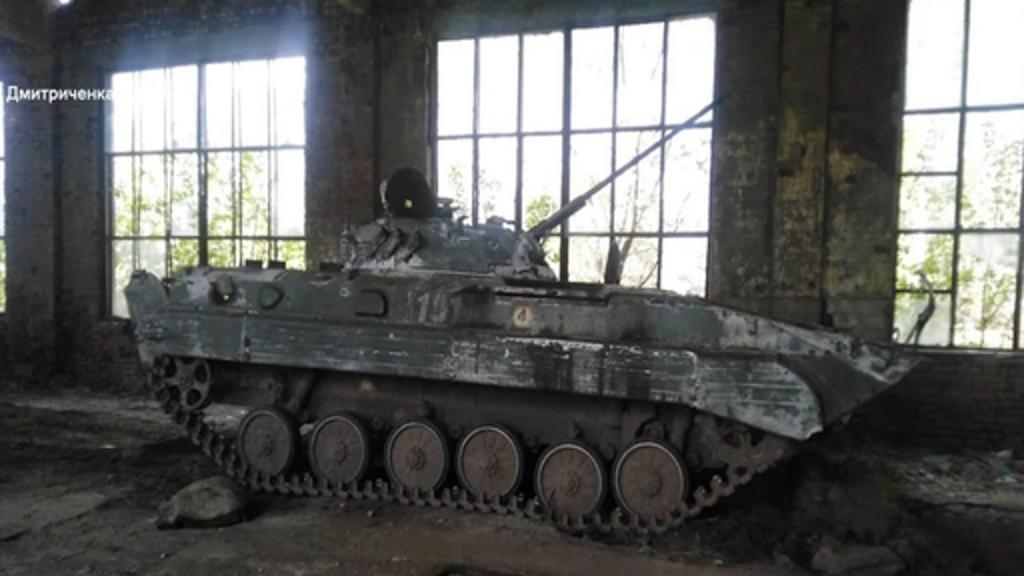APC-IFV: (120, 88, 924, 536)
